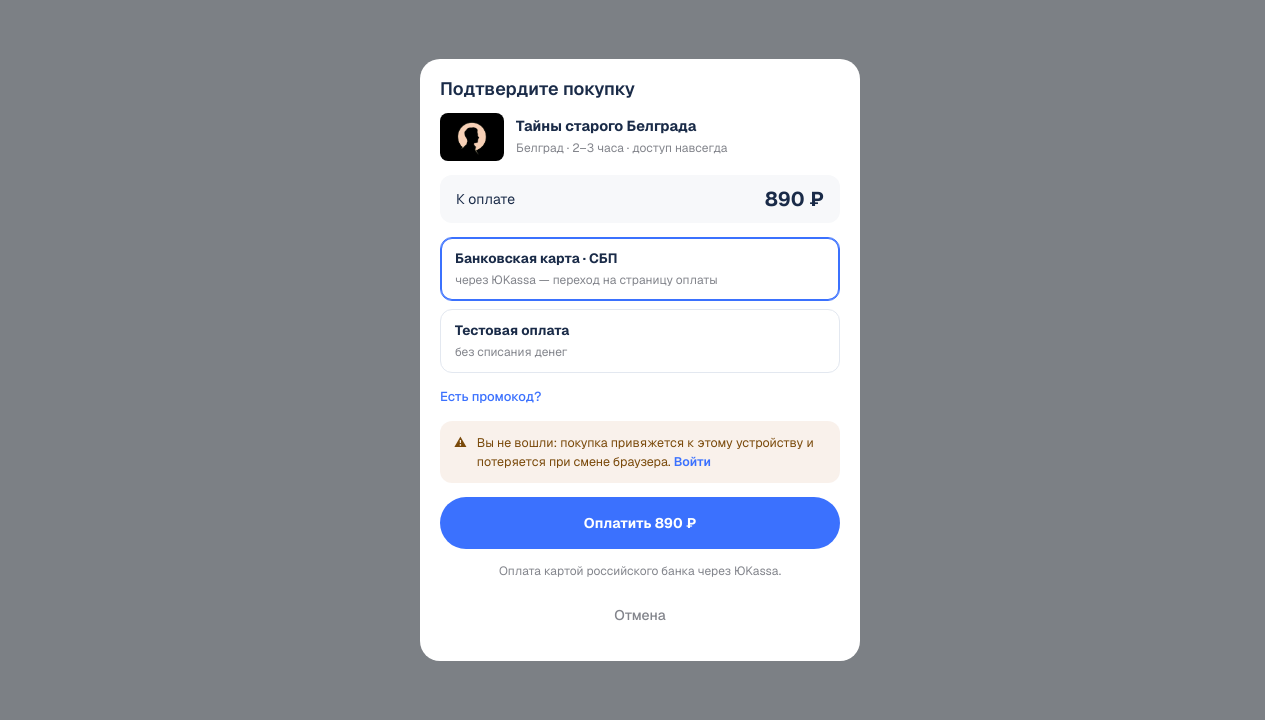
Scenario: PurchaseSheet — ЮKassa redirect › browser Back with the payment still pending unlocks the sheet for a retry
Step 1. Click the button "Оплатить 890 ₽" → {"x": 640, "y": 523}, box [440,497,840,549]
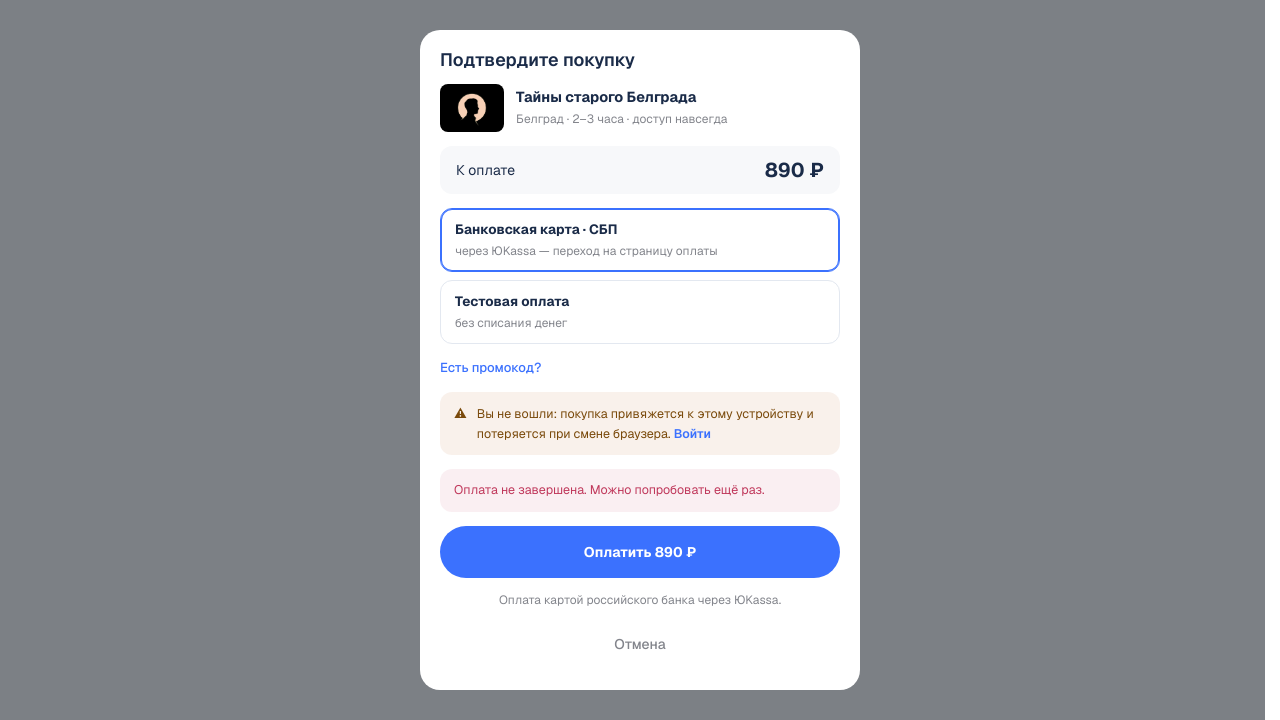
Check: the button "Оплатить 890 ₽" is shown, box [440,526,840,578]
Check: the text "Оплата не завершена. Можно попробовать ещё раз." is shown, box [440,469,840,512]
